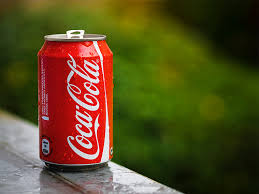coke: (58, 51, 111, 166)
